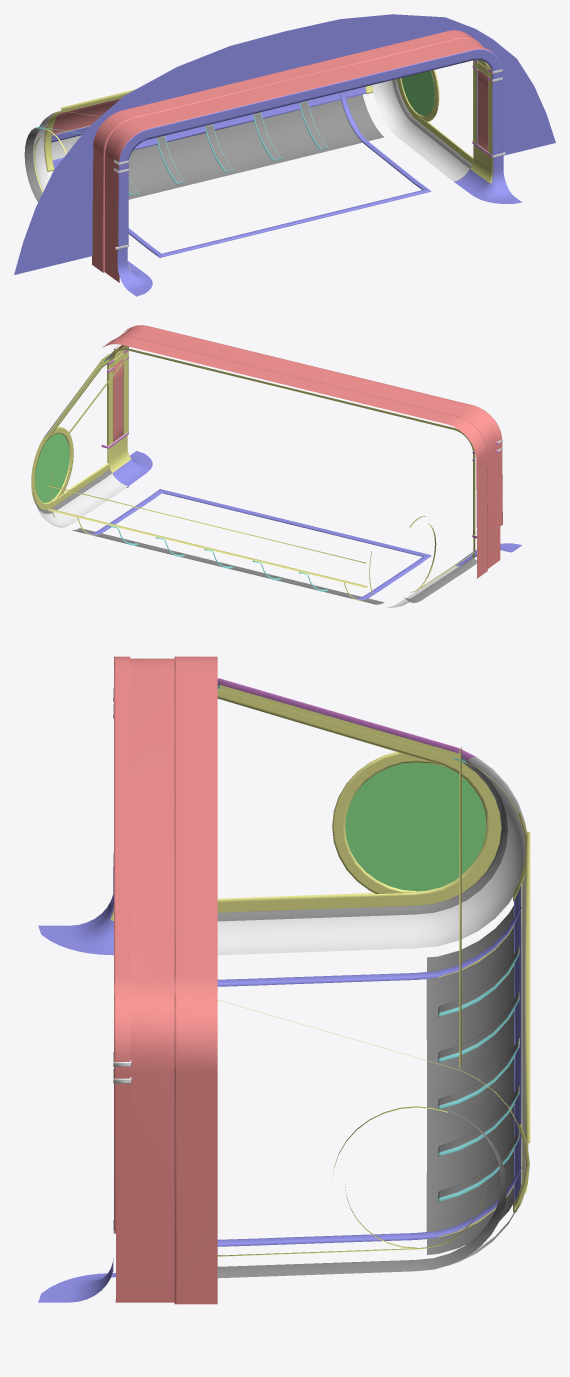
The model's file is CHN_Field_Goal.gltf.
3 renders of one model, top to bottom at view 1: azimuth 30°, elevation 25°; view 2: azimuth 150°, elevation 25°; view 3: azimuth 270°, elevation 25°, orthographic. The views are drawn at different scales.
Parts seen in each view (by area): view 1: CHN_Field_Goal; view 2: CHN_Field_Goal; view 3: CHN_Field_Goal.
Part boxes in pixels (left/top/right/bottom): CHN_Field_Goal: left=14, top=14, right=555, bottom=296; CHN_Field_Goal: left=31, top=325, right=521, bottom=607; CHN_Field_Goal: left=38, top=656, right=530, bottom=1304.
Bounding box in the file's own units: 26.64 × 8.81 × 10.51.
